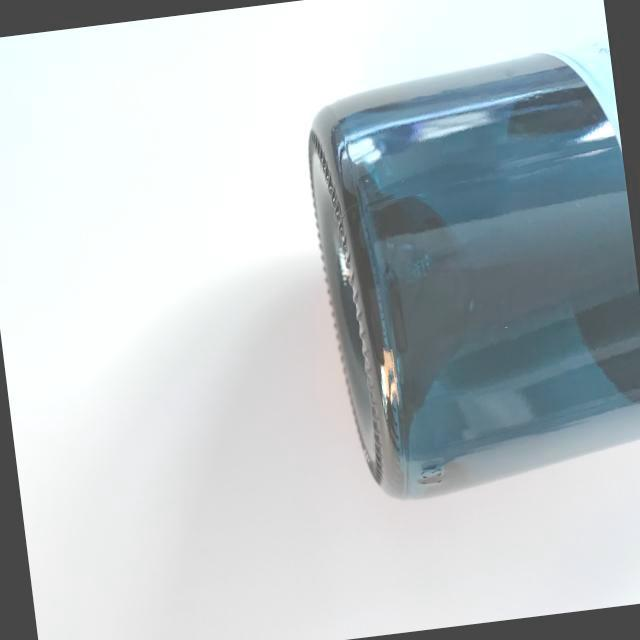glass: (285, 31, 640, 517)
